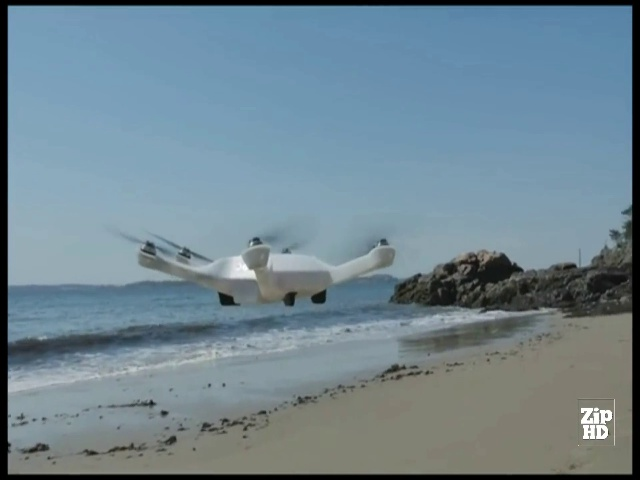drone: (114, 218, 404, 317)
